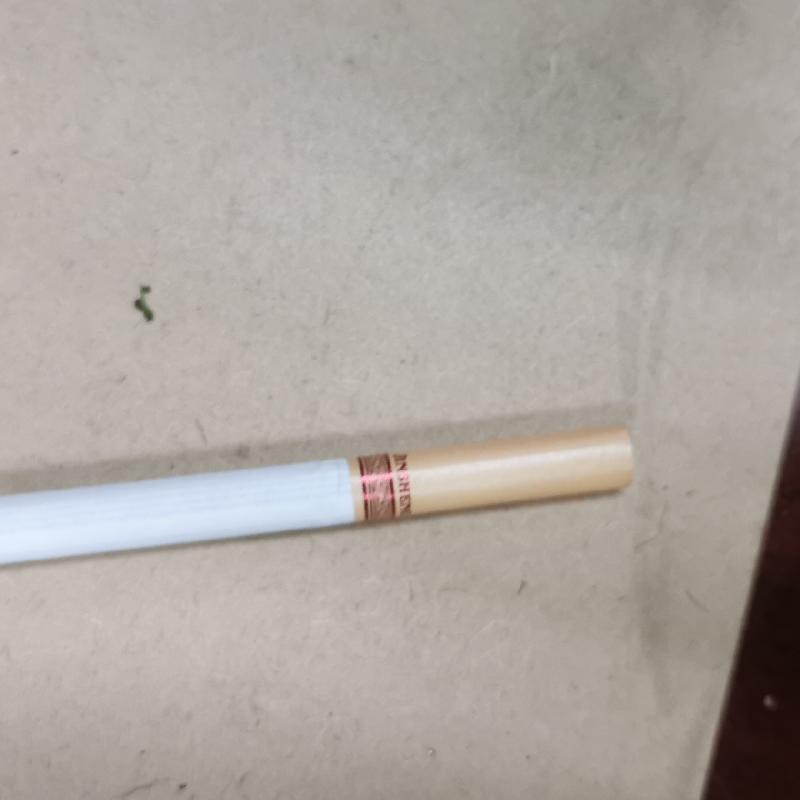cigarette: (0, 422, 639, 563)
